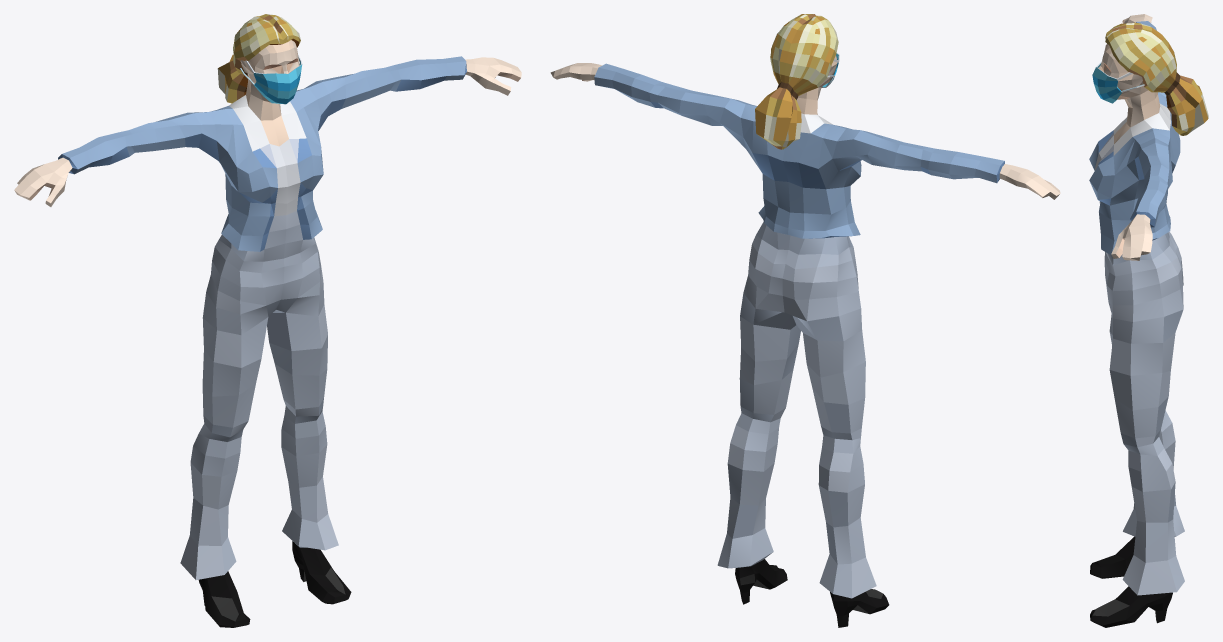
File: office_Female_B-model.obj
The picture shows the model from 3 angles, left to right: view 1: azimuth 30°, elevation 25°; view 2: azimuth 150°, elevation 25°; view 3: azimuth 270°, elevation 25°; orthographic projection. The views are drawn at different scales.
Parts seen in each view (by area): view 1: office_Female_B, acc_hair_blond_fringes, acc_mask_blue; view 2: office_Female_B, acc_hair_blond_fringes; view 3: office_Female_B, acc_hair_blond_fringes, acc_mask_blue.
Part boxes in pixels (<box>): office_Female_B: <box>14,40,521,627</box>; acc_hair_blond_fringes: <box>217,14,300,103</box>; acc_mask_blue: <box>240,54,302,104</box>; office_Female_B: <box>550,55,1060,627</box>; acc_hair_blond_fringes: <box>755,14,838,149</box>; office_Female_B: <box>1089,14,1184,627</box>; acc_hair_blond_fringes: <box>1105,22,1208,135</box>; acc_mask_blue: <box>1092,61,1144,103</box>.
Bounding box in the file's own units: 154 × 170 × 32.28.
